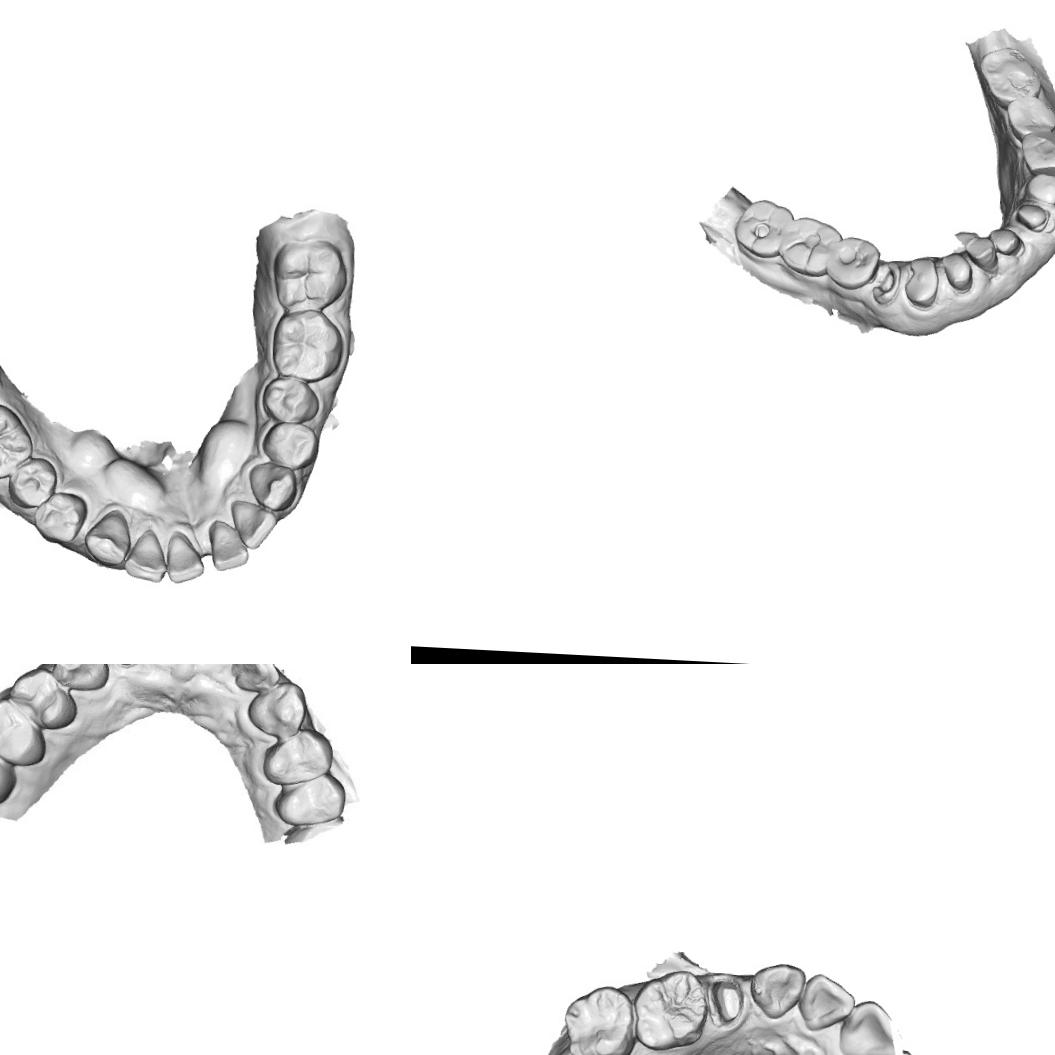canine: (746, 958, 808, 1020), (244, 460, 302, 514), (80, 507, 130, 566), (251, 683, 306, 734), (52, 664, 115, 692)
crown: (702, 972, 742, 1026)
incisor: (796, 970, 858, 1034), (835, 995, 897, 1055), (226, 498, 278, 552), (162, 533, 208, 586), (124, 527, 168, 582), (208, 520, 252, 574), (231, 664, 278, 694)
molar: (628, 965, 710, 1054), (270, 233, 348, 314), (266, 307, 344, 385), (559, 981, 637, 1055), (976, 43, 1045, 105), (734, 198, 792, 256), (781, 217, 839, 271), (0, 399, 34, 482), (0, 699, 43, 763), (1005, 89, 1055, 139)
premolar: (7, 670, 72, 728), (273, 777, 345, 826), (825, 232, 881, 290), (3, 454, 58, 512), (258, 420, 319, 472), (260, 374, 322, 425), (31, 490, 88, 545), (262, 732, 328, 779), (1019, 128, 1055, 174)
